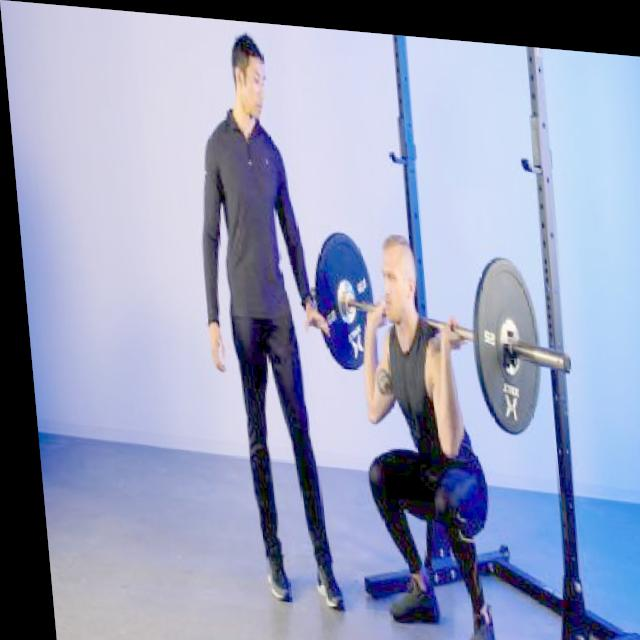barbell: (462, 243, 576, 434)
